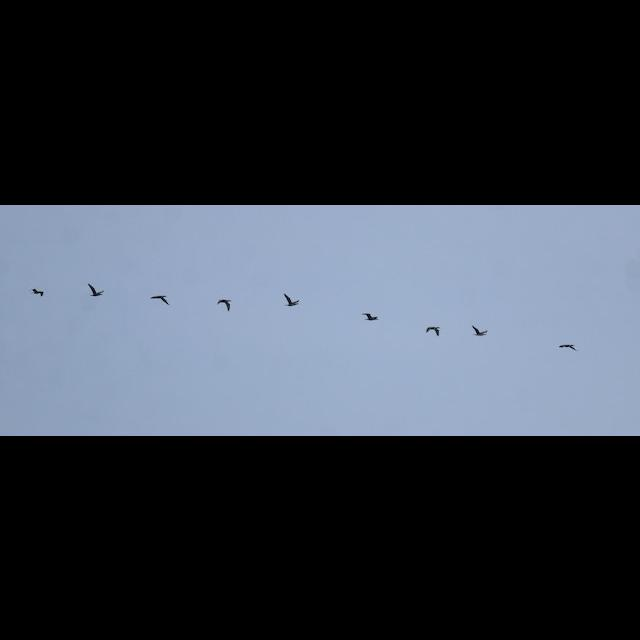cormorant: (84, 280, 104, 298), (282, 290, 300, 306), (470, 322, 490, 336), (362, 310, 382, 322)
